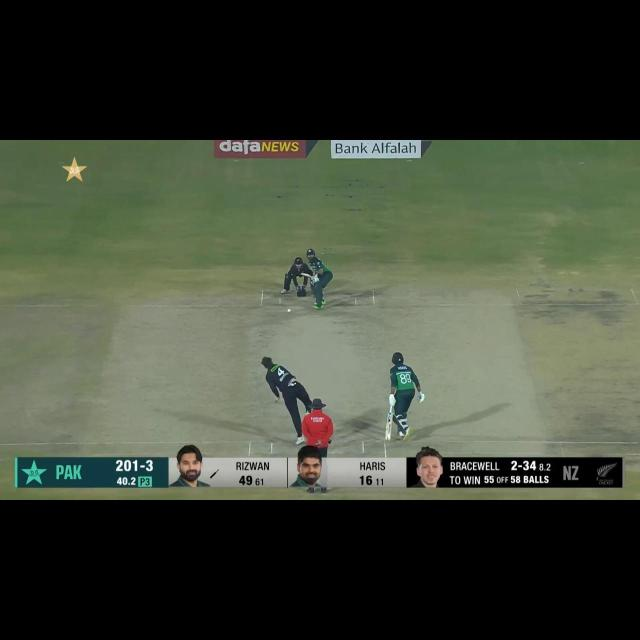bat: (385, 411, 392, 442), (299, 270, 313, 280)
toe: (385, 434, 391, 442), (300, 272, 306, 278)
